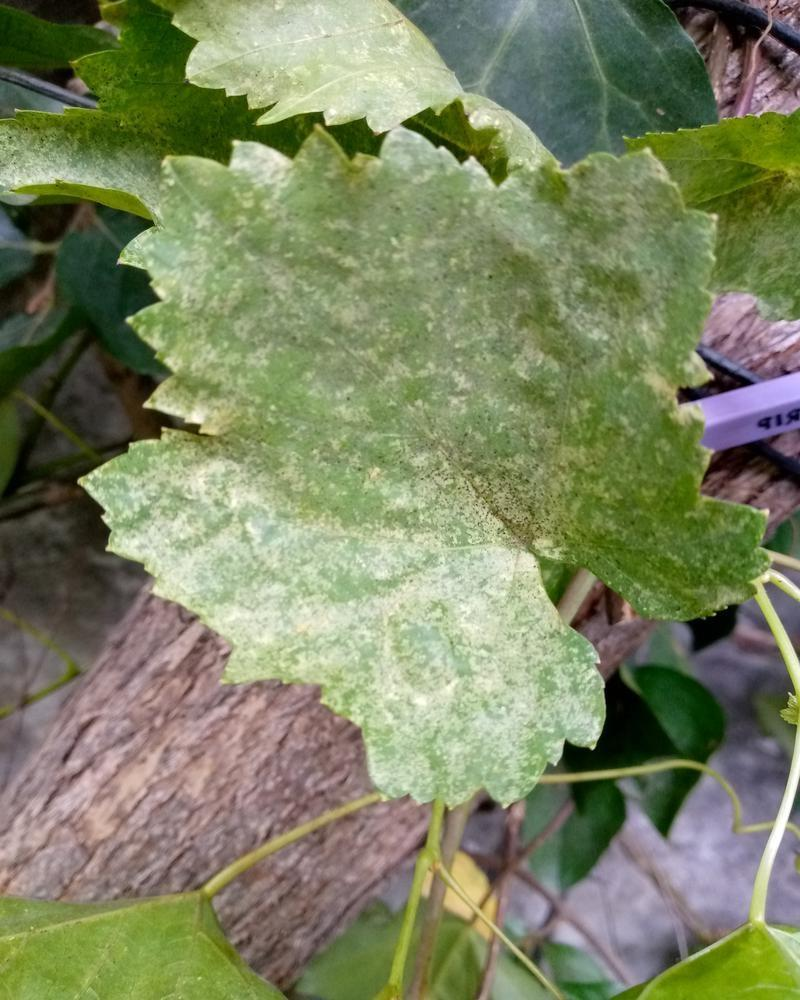Powdery-Mildew: (112, 462, 418, 697), (389, 545, 604, 746), (500, 181, 676, 361), (399, 442, 553, 554), (133, 229, 230, 375), (632, 335, 715, 406), (240, 149, 287, 196), (159, 445, 206, 492), (450, 668, 460, 678)
